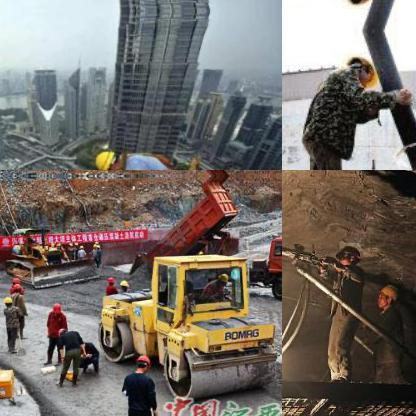Helmet: (341, 50, 379, 84), (329, 242, 361, 266), (373, 282, 399, 310), (93, 145, 121, 169), (132, 350, 152, 372), (341, 0, 380, 9), (47, 300, 63, 314), (214, 271, 230, 285), (0, 293, 13, 307), (105, 274, 117, 286), (119, 278, 129, 290), (56, 326, 66, 336), (10, 280, 20, 290)
